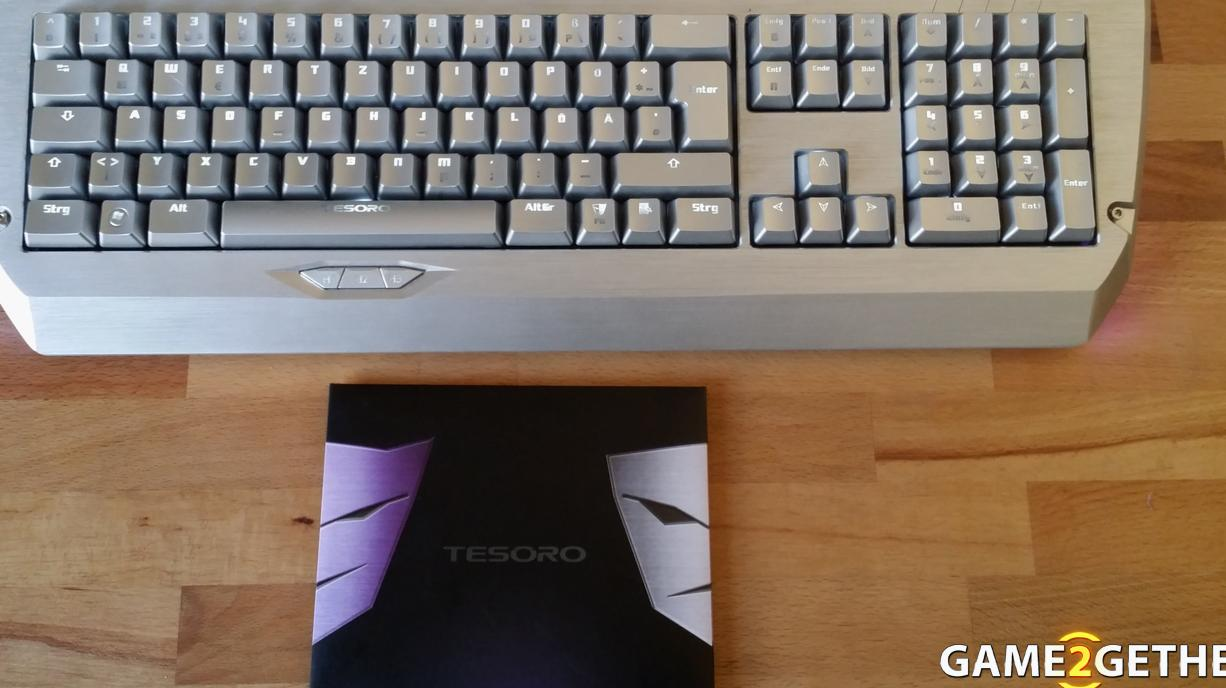0: (505, 8, 541, 45)
1: (75, 6, 110, 44)
2: (125, 6, 161, 45)
3: (173, 6, 209, 44)
4: (223, 6, 257, 44)
5: (270, 7, 305, 45)
6: (318, 7, 353, 45)
7: (365, 8, 401, 46)
8: (412, 8, 448, 47)
9: (459, 9, 495, 46)
a: (112, 100, 149, 138)
accent: (599, 8, 634, 45)
ae: (587, 101, 623, 139)
alt-left: (144, 194, 206, 232)
altgr-right: (505, 193, 567, 234)
b: (328, 148, 366, 184)
c: (231, 148, 268, 183)
caret: (30, 7, 64, 44)
comma: (471, 148, 506, 185)
d: (209, 100, 244, 139)
del: (646, 9, 726, 45)
e: (199, 54, 235, 93)
enter: (667, 55, 728, 139)
f: (257, 101, 293, 140)
g: (305, 102, 340, 140)
h: (353, 102, 387, 140)
hash: (634, 101, 670, 139)
i: (436, 56, 471, 93)
j: (401, 101, 436, 140)
k: (448, 102, 483, 140)
keyboard: (1, 1, 1138, 288)
l: (494, 101, 528, 139)
less: (85, 147, 123, 184)
m: (422, 148, 459, 184)
minus: (564, 148, 600, 184)
n: (376, 148, 412, 184)
o: (483, 56, 518, 92)
oe: (541, 103, 576, 140)
p: (530, 56, 564, 93)
plus: (622, 55, 658, 93)
point: (518, 148, 553, 183)
q: (101, 53, 137, 92)
r: (247, 54, 283, 92)
s: (160, 101, 195, 139)
shift-left: (25, 149, 75, 184)
shift-lock: (27, 101, 100, 139)
shift-right: (610, 147, 728, 184)
space: (216, 194, 496, 238)
ss: (552, 8, 588, 46)
strg-left: (20, 194, 85, 234)
strg-right: (670, 192, 734, 232)
t: (294, 55, 329, 93)
tab: (30, 54, 88, 91)
u: (389, 55, 424, 93)
ue: (576, 56, 611, 93)
v: (280, 147, 317, 183)
w: (149, 53, 186, 93)
x: (184, 148, 221, 183)
y: (135, 148, 171, 184)
z: (342, 55, 377, 93)
